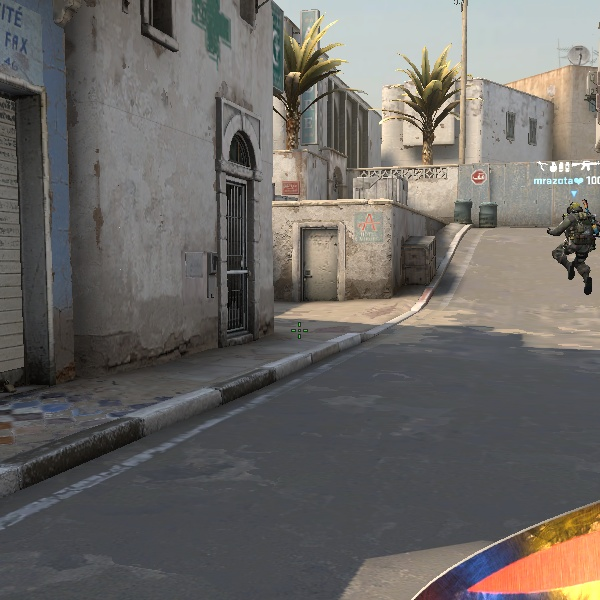ct_body: (550, 195, 597, 294)
